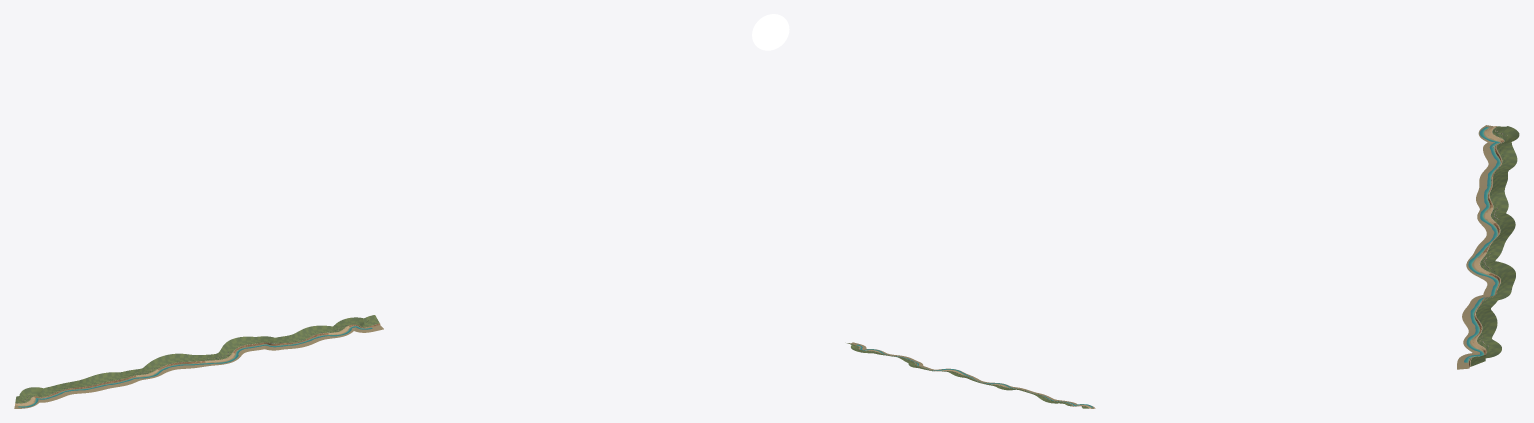
The model's file is bondi.glb.
The picture shows the model from 3 angles, left to right: view 1: azimuth 30°, elevation 25°; view 2: azimuth 150°, elevation 25°; view 3: azimuth 270°, elevation 25°; orthographic projection. The views are drawn at different scales.
Visible parts, largest first — view 1: no part large enough to name; view 2: Sun; view 3: Land_008, Land_004, Land_000, Land_011, Land_001, Land_007, Land_005, Land_010, Land_003, Land_006, Land_012, Land_009 (+1 smaller).
Part boxes in pixels (left/top/right/bottom): Sun: left=752, top=14, right=789, bottom=50; Land_008: left=1482, top=263, right=1515, bottom=292; Land_004: left=1477, top=194, right=1508, bottom=221; Land_000: left=1478, top=125, right=1519, bottom=144; Land_011: left=1463, top=319, right=1497, bottom=349; Land_001: left=1483, top=141, right=1517, bottom=163; Land_007: left=1466, top=255, right=1503, bottom=278; Land_005: left=1479, top=213, right=1515, bottom=237; Land_010: left=1462, top=306, right=1496, bottom=329; Land_003: left=1476, top=173, right=1507, bottom=202; Land_006: left=1472, top=232, right=1512, bottom=255; Land_012: left=1457, top=340, right=1501, bottom=361; Land_009: left=1466, top=288, right=1511, bottom=308.
Size of what is drawn, in the model's own units: 10149 by 5427 by 4143.
